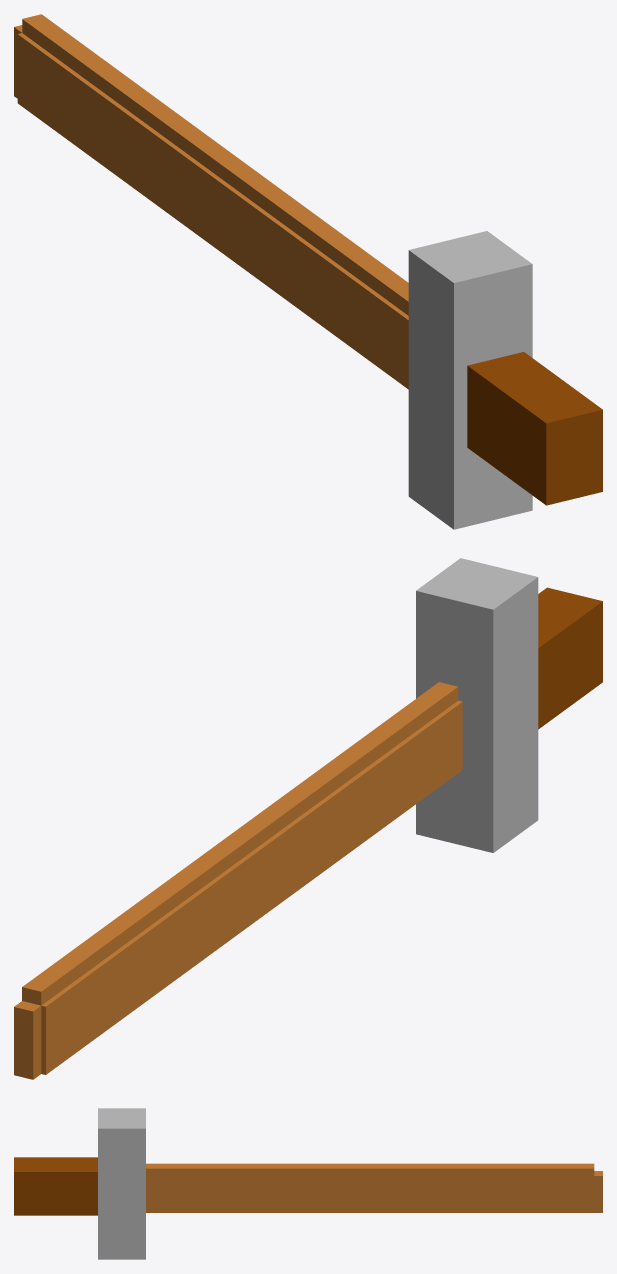
The model's file is bronze_sword.glb.
The picture shows the model from 3 angles, top to bottom: view 1: azimuth 30°, elevation 25°; view 2: azimuth 150°, elevation 25°; view 3: azimuth 270°, elevation 25°; orthographic projection. The views are drawn at different scales.
Parts seen in each view (by area): view 1: Cube; view 2: Cube; view 3: Cube.
Boxes of the visible parts, <box> form: Cube: <box>14,14,602,529</box>; Cube: <box>14,558,602,1079</box>; Cube: <box>14,1108,602,1259</box>.
Size of the model in its own units: 0.1 by 0.3 by 1.22.
